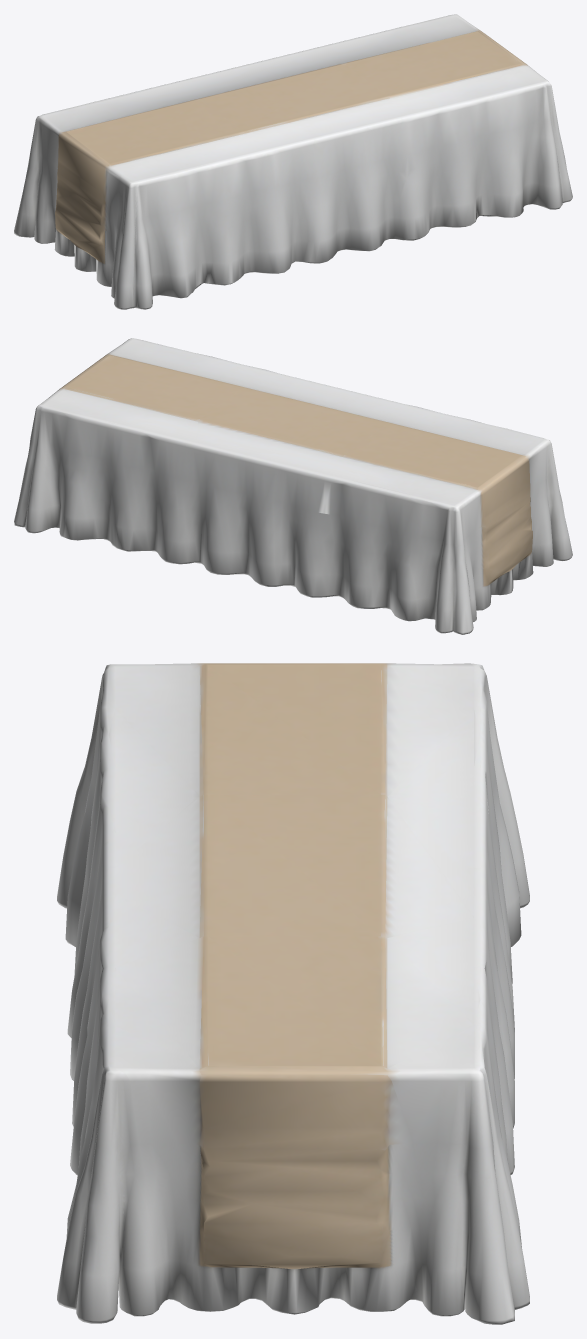
The model's file is rec_table_30_inch_tall_with_runner_8ft long.glb.
The picture shows the model from 3 angles, top to bottom: view 1: azimuth 30°, elevation 25°; view 2: azimuth 150°, elevation 25°; view 3: azimuth 270°, elevation 25°; orthographic projection. The views are drawn at different scales.
Parts seen in each view (by area): view 1: Mesh_0.004; view 2: Mesh_0.004; view 3: Mesh_0.004.
Boxes of the visible parts, <box> form: Mesh_0.004: <box>14,14,572,309</box>; Mesh_0.004: <box>14,338,572,634</box>; Mesh_0.004: <box>57,663,529,1324</box>.
Bounding box in the file's own units: 3.07 × 0.762 × 1.38.
Materials: 1 (1 with a texture image).
